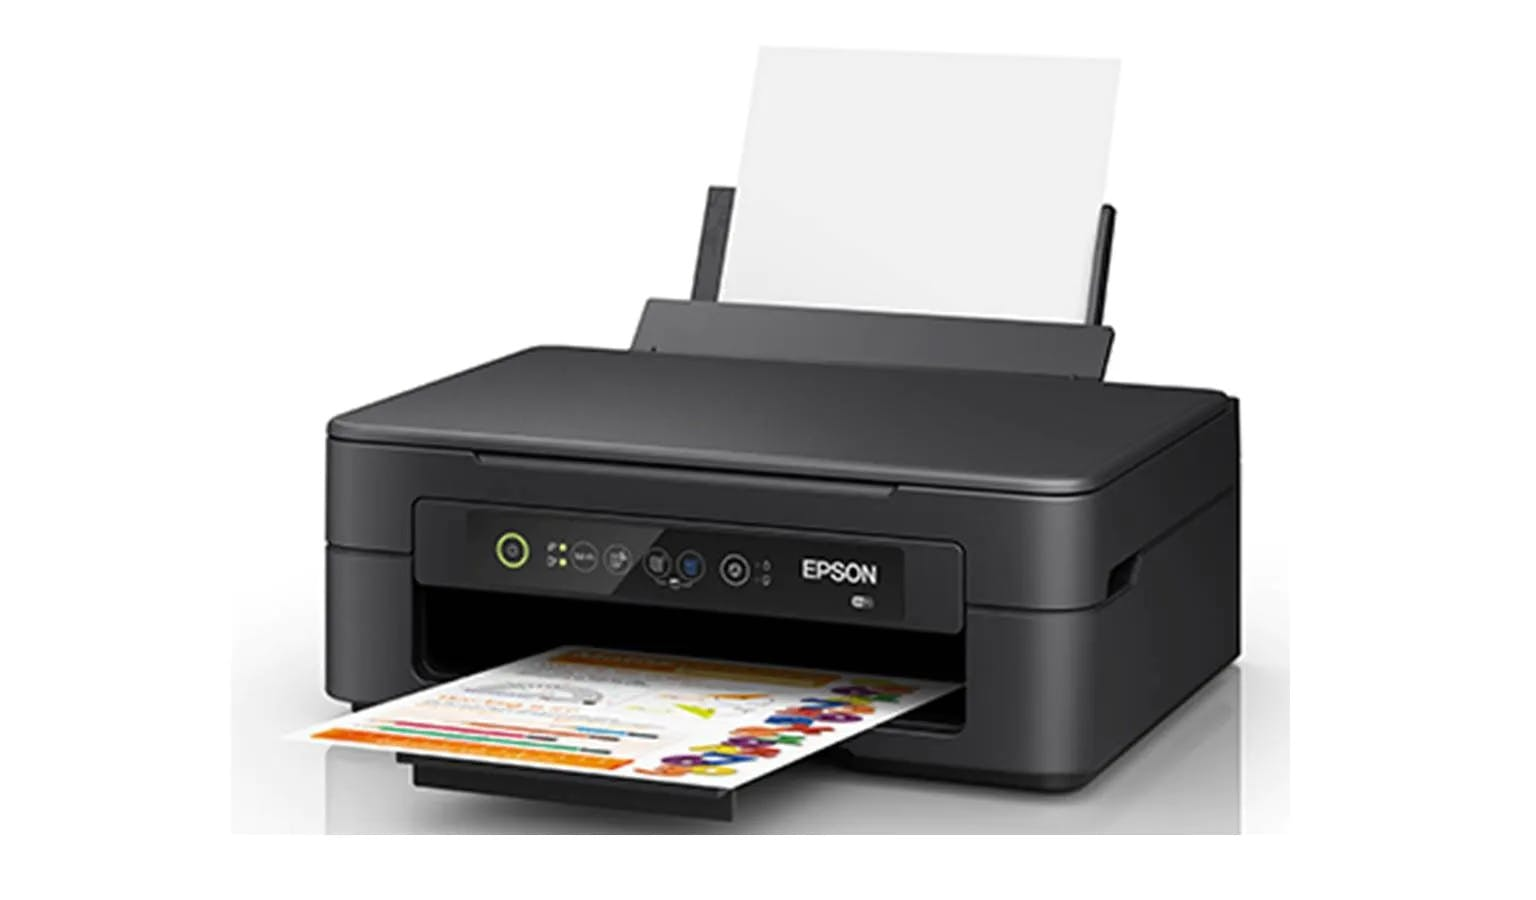printer: (318, 239, 1244, 822)
